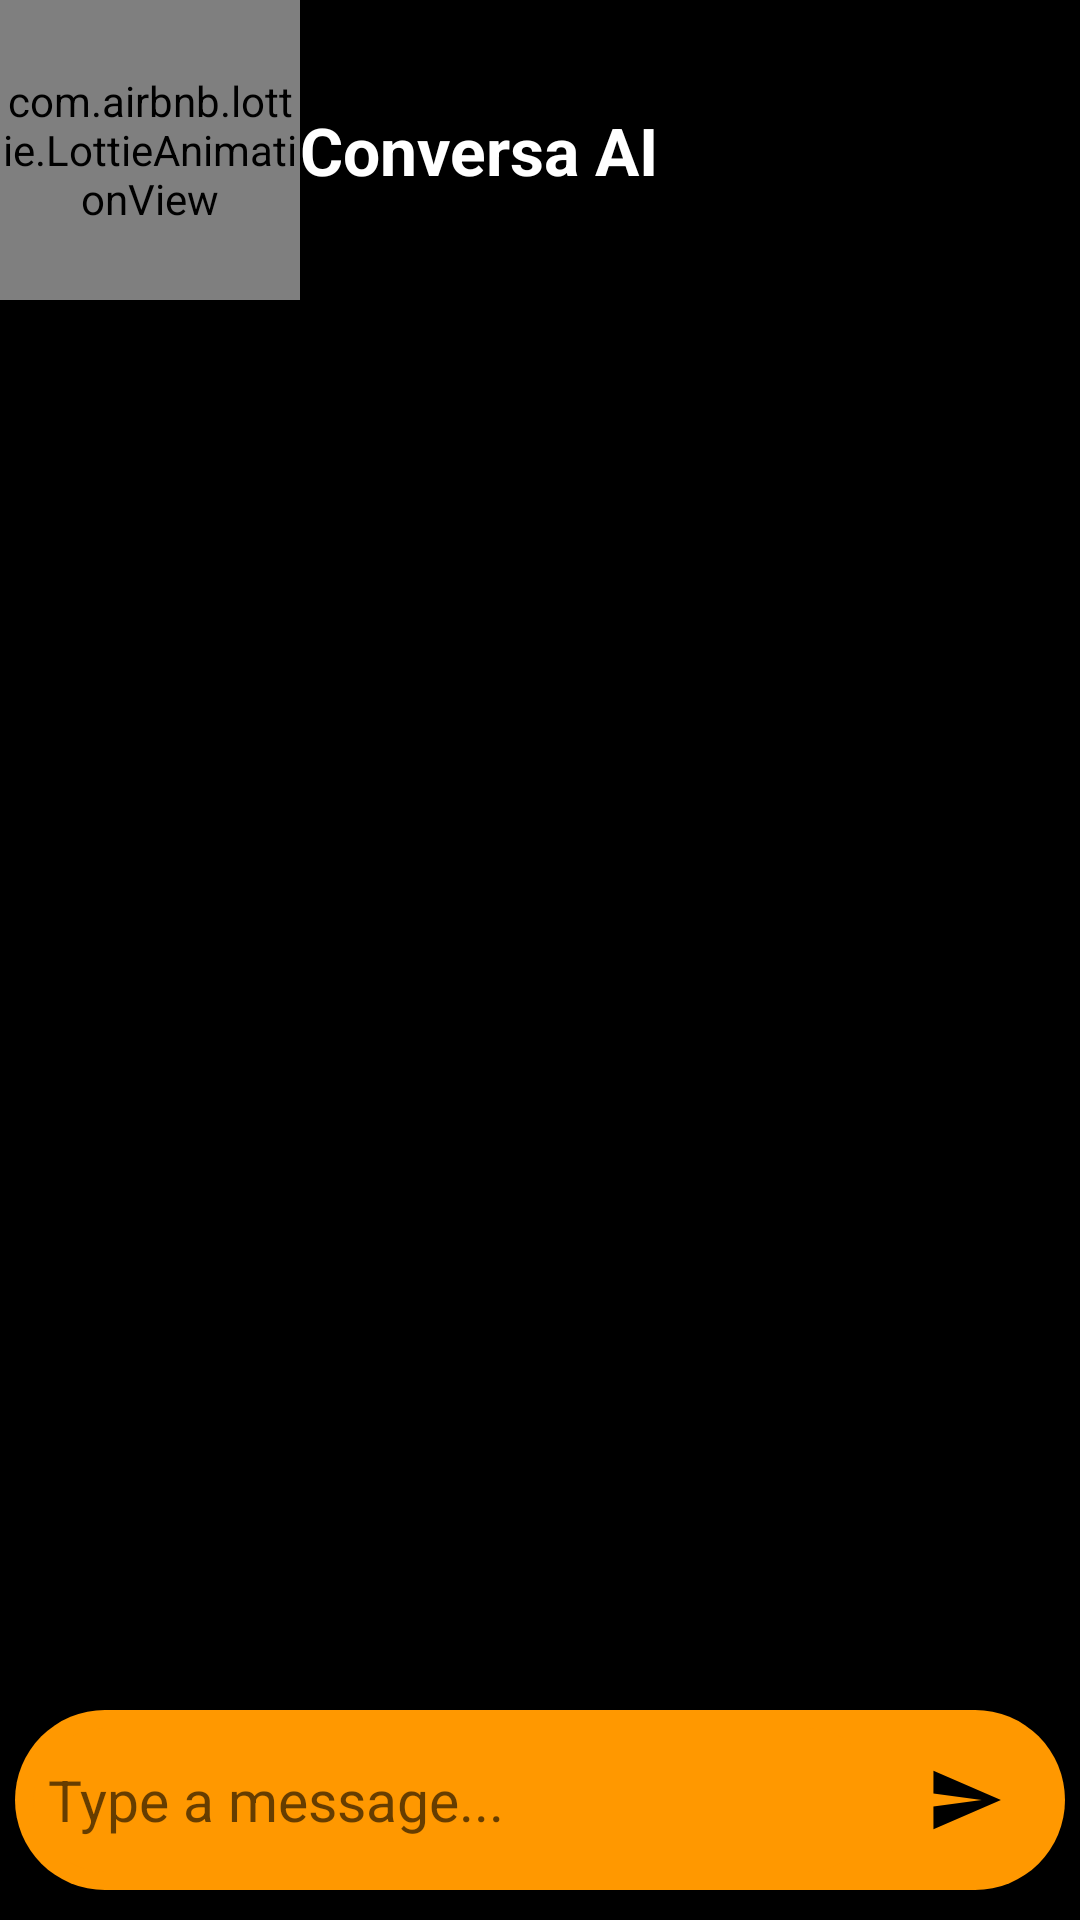

Where to tap for icons on this 1080x1920 app screen, as [x,y]:
send: [967,1800]
